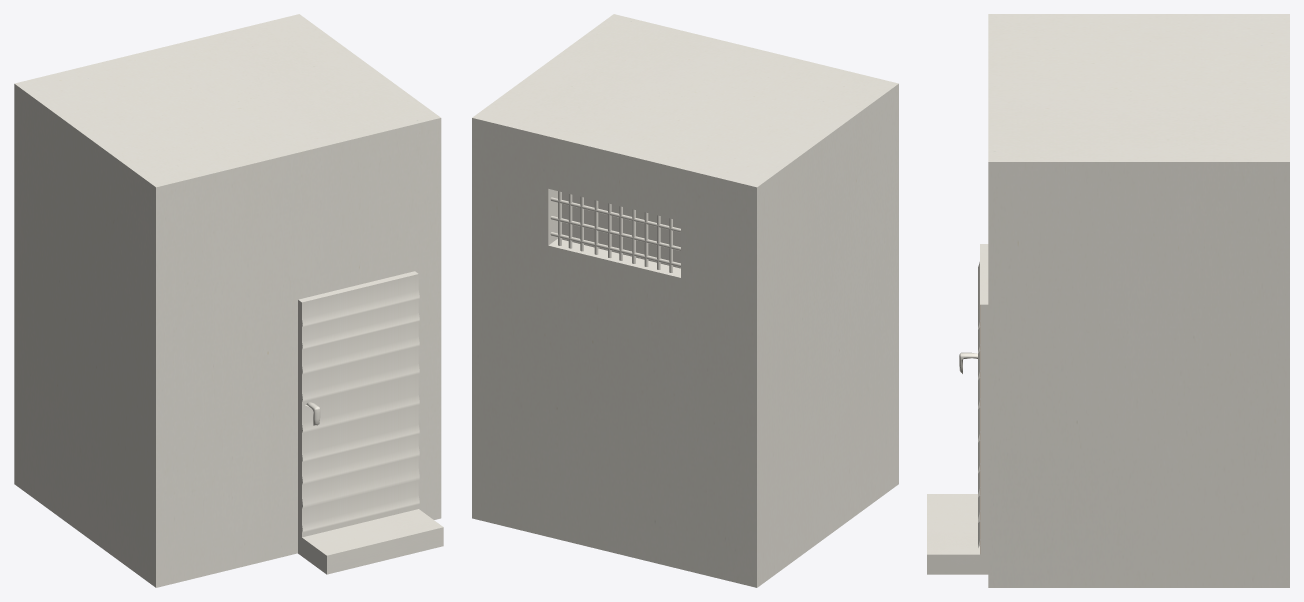
File: Tank house.fbx
3 views of the same model, side by side, from view 1: azimuth 30°, elevation 25°; view 2: azimuth 150°, elevation 25°; view 3: azimuth 270°, elevation 25° (orthographic). The views are drawn at different scales.
Parts seen in each view (by area): view 1: pCylinder14, pCube1; view 2: pCylinder14; view 3: pCylinder14, pCube1.
Part boxes in pixels (x1,y1,x2,y2): pCylinder14: [14, 14, 441, 587]; pCube1: [298, 271, 443, 574]; pCylinder14: [472, 14, 898, 587]; pCylinder14: [988, 14, 1289, 587]; pCube1: [927, 244, 988, 574].
Size of the model in its own units: 5.25 by 7.05 by 5.44.
